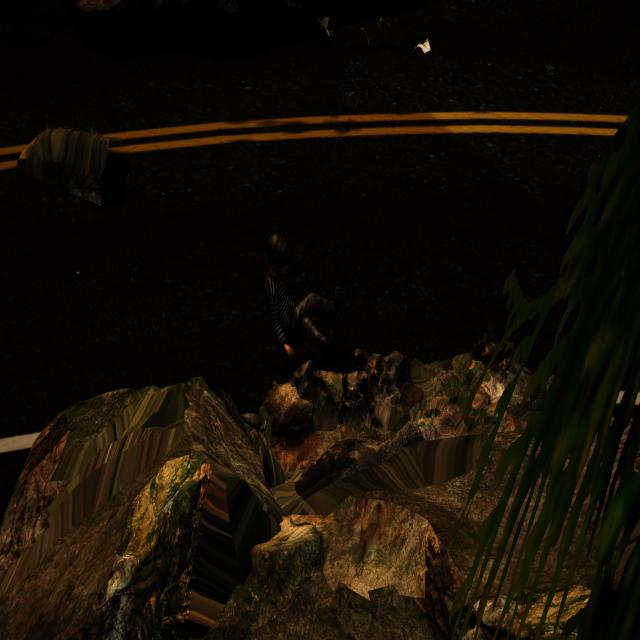Human: (258, 232, 351, 371)
